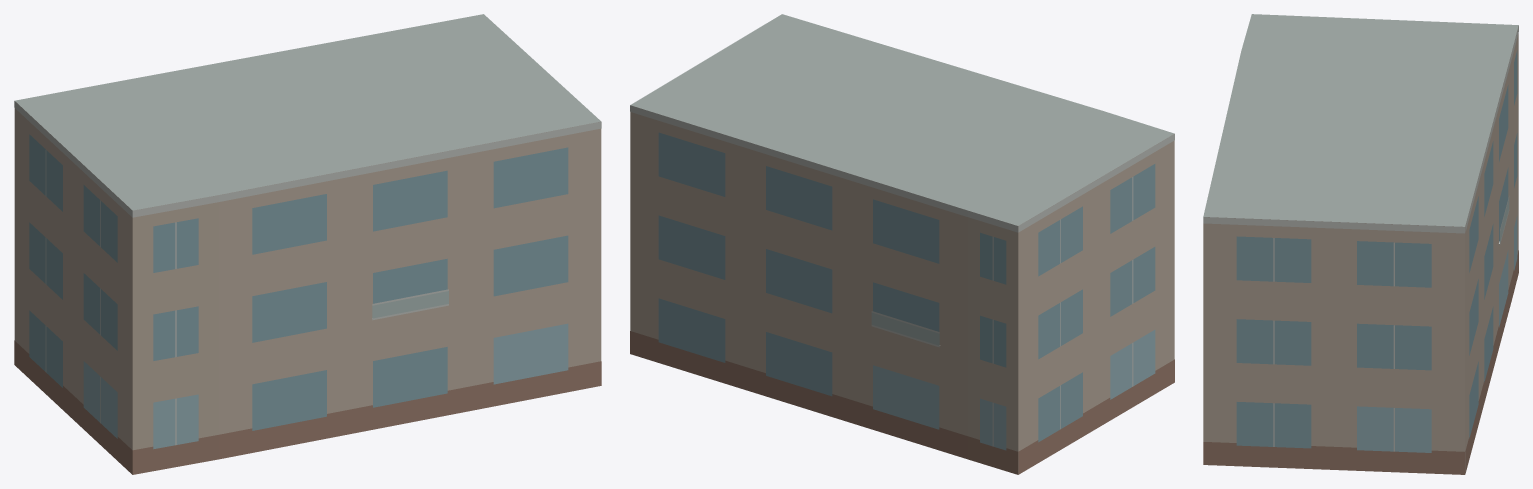
Rendered from survey-upis-33011625.glb.
3 renders of one model, left to right at view 1: azimuth 30°, elevation 25°; view 2: azimuth 150°, elevation 25°; view 3: azimuth 270°, elevation 25°, orthographic. The views are drawn at different scales.
Visible parts, largest first — view 1: survey-upis-33011625.tmp; view 2: survey-upis-33011625.tmp; view 3: survey-upis-33011625.tmp.
Boxes of the visible parts, bbox=[...] form: survey-upis-33011625.tmp: bbox=[14, 14, 601, 474]; survey-upis-33011625.tmp: bbox=[630, 14, 1174, 474]; survey-upis-33011625.tmp: bbox=[1203, 14, 1518, 474].
Bounding box in the file's own units: 16.85 × 9.15 × 10.56.
